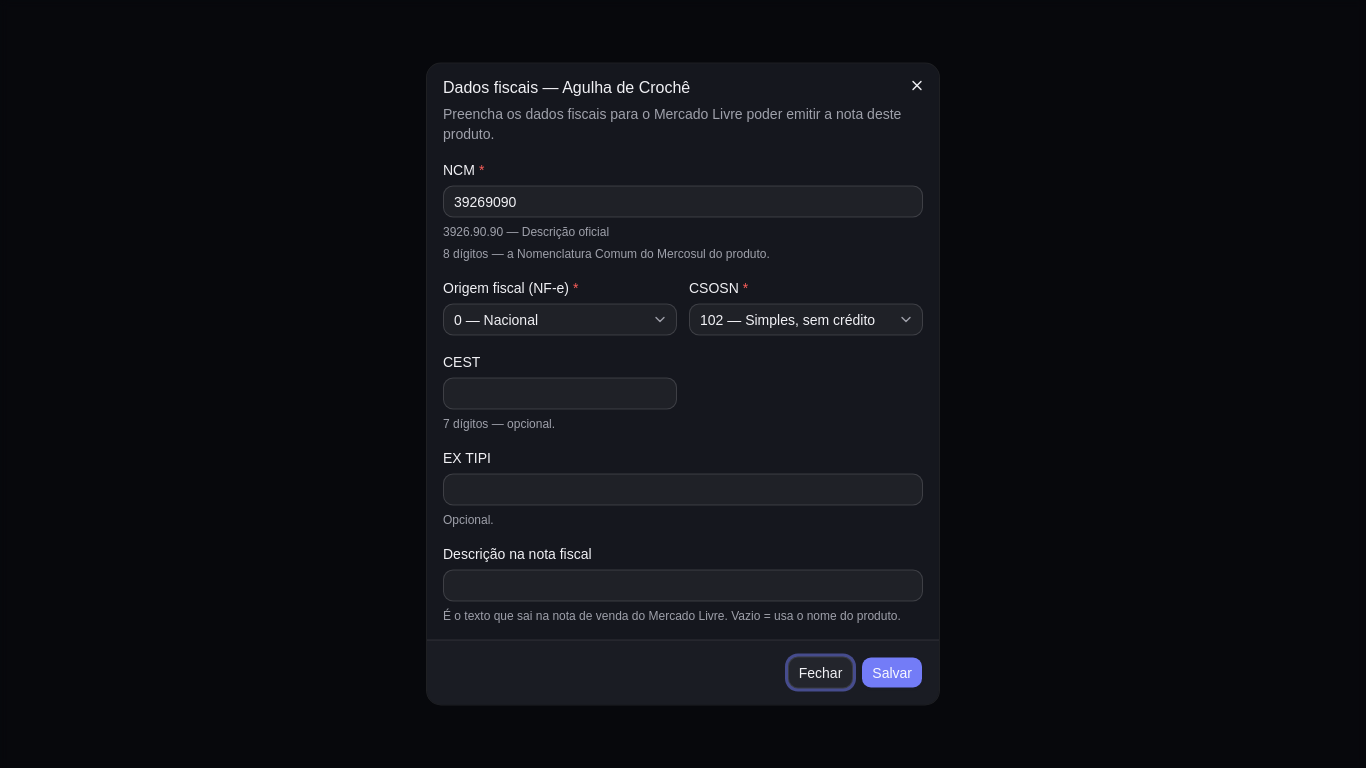
Test case: DialogFiscalProduto — Salvar › erro 400 da edge renderiza as mensagens de erro
The image size is (1366, 768).
Expected: the field labelled "NCM" holds "39269090", x1=443 y1=186 x2=923 y2=218
Step 1. Click the button "Salvar" → (892, 672), box x1=861 y1=656 x2=923 y2=688
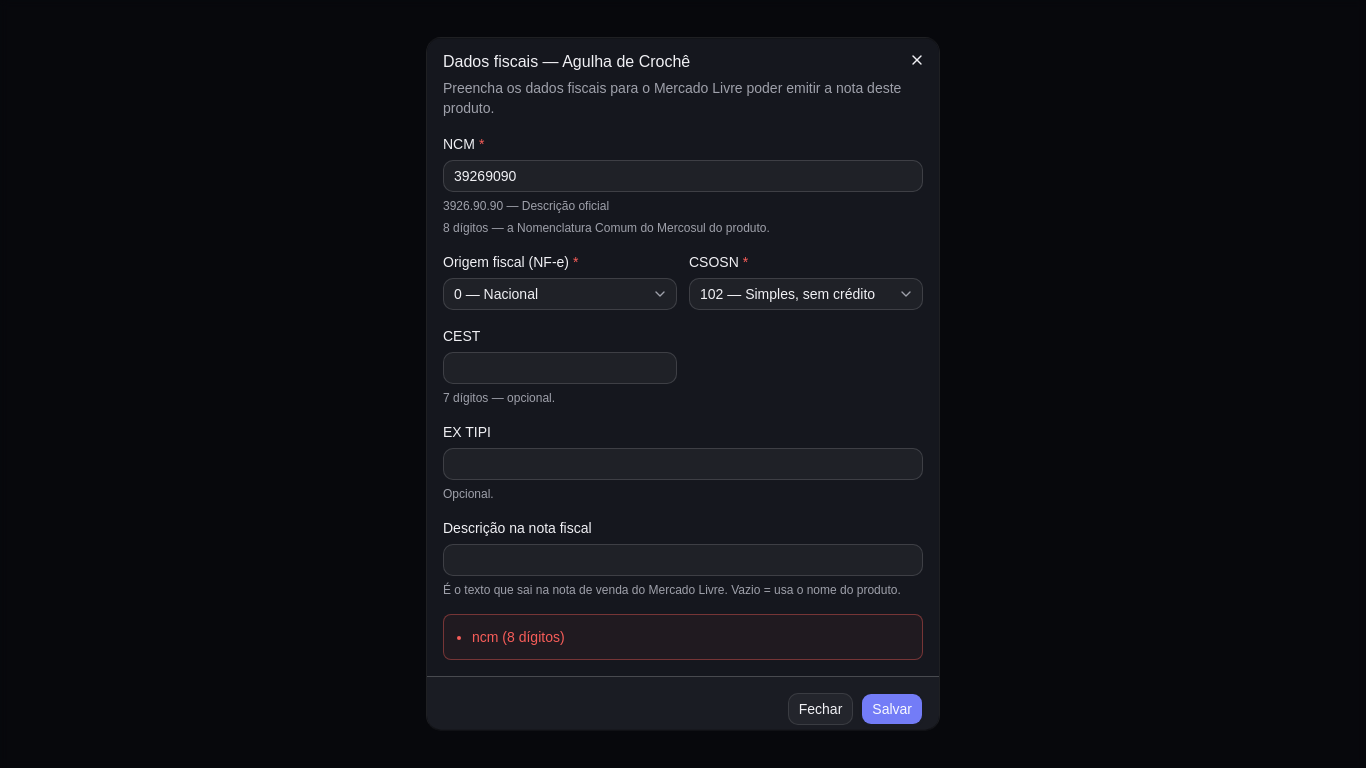
Expected: the list item "ncm (8 dígitos)" is shown, x1=472 y1=629 x2=565 y2=645
